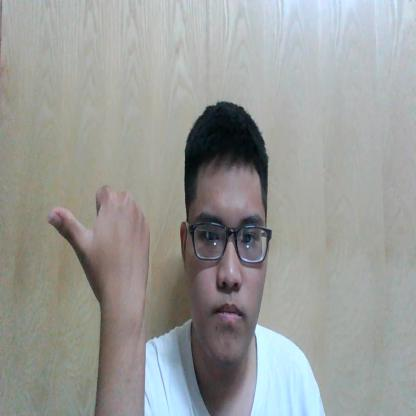right: (47, 184, 155, 306)
